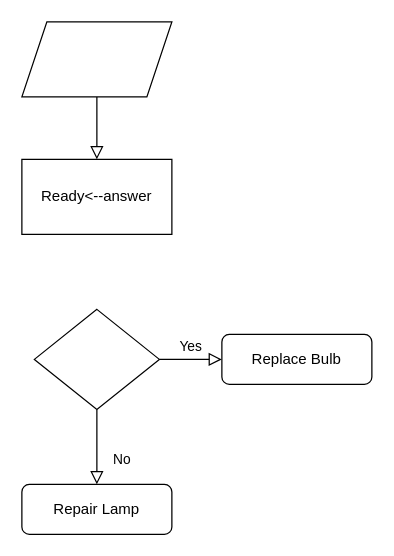
Some shapes in this 394 by 556 pixel diagram are drawn without their labels. The box of each missing label's shape, as (x1, y1, x2, y2) in pixels:
Bulb burned out?: (33, 308, 159, 409)
Ready For The Test?: (21, 21, 172, 97)
